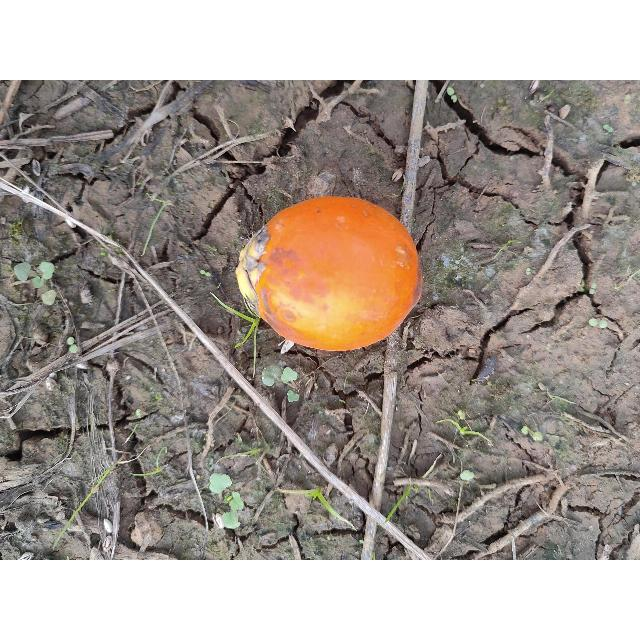good: (241, 197, 422, 353)
